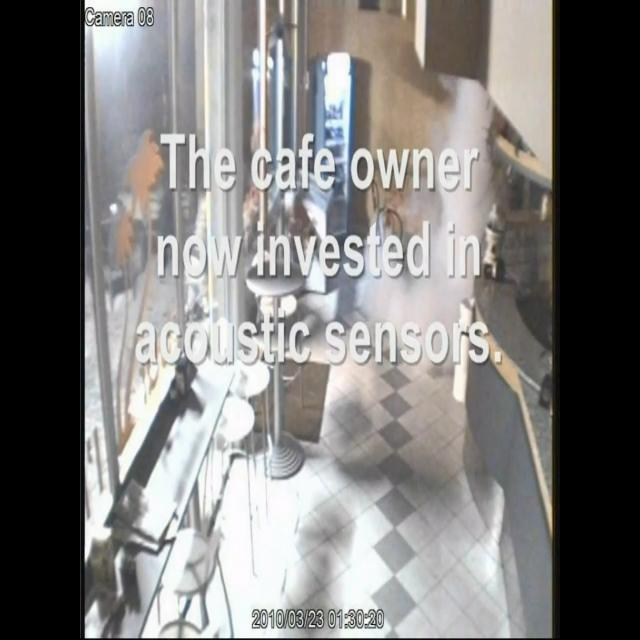Smoke: (356, 76, 496, 348)
